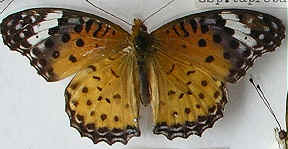Argyreus hyperbius: (1, 1, 288, 149)
butterfly: (1, 1, 287, 148)
